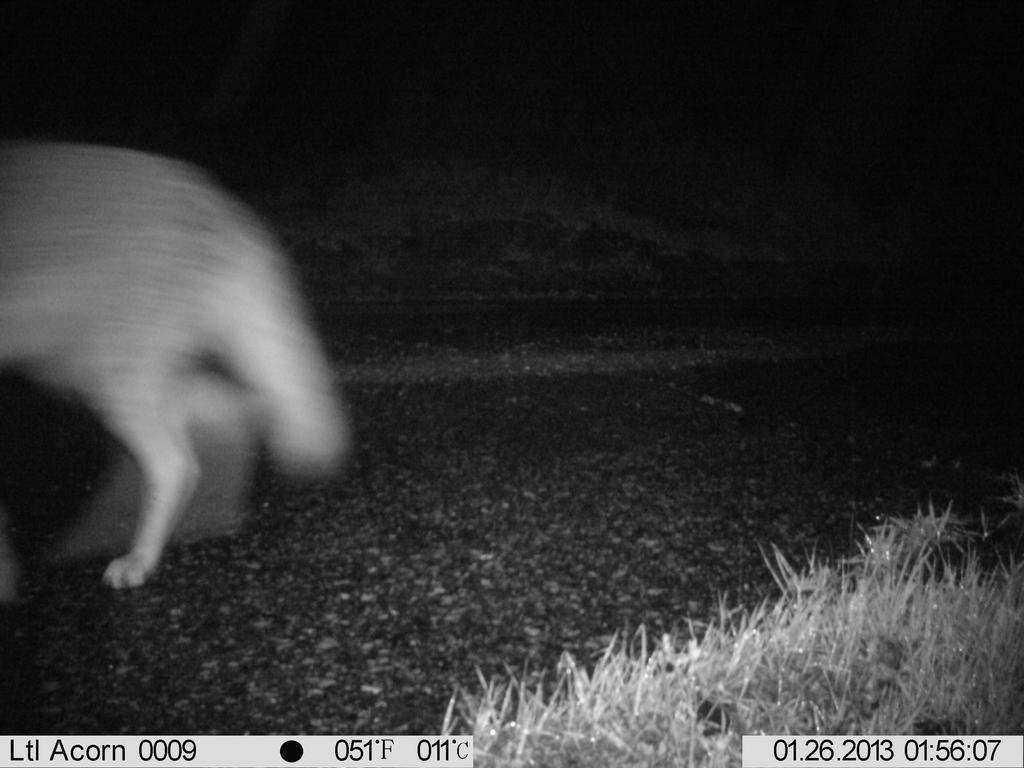coyote: (2, 131, 363, 597)
